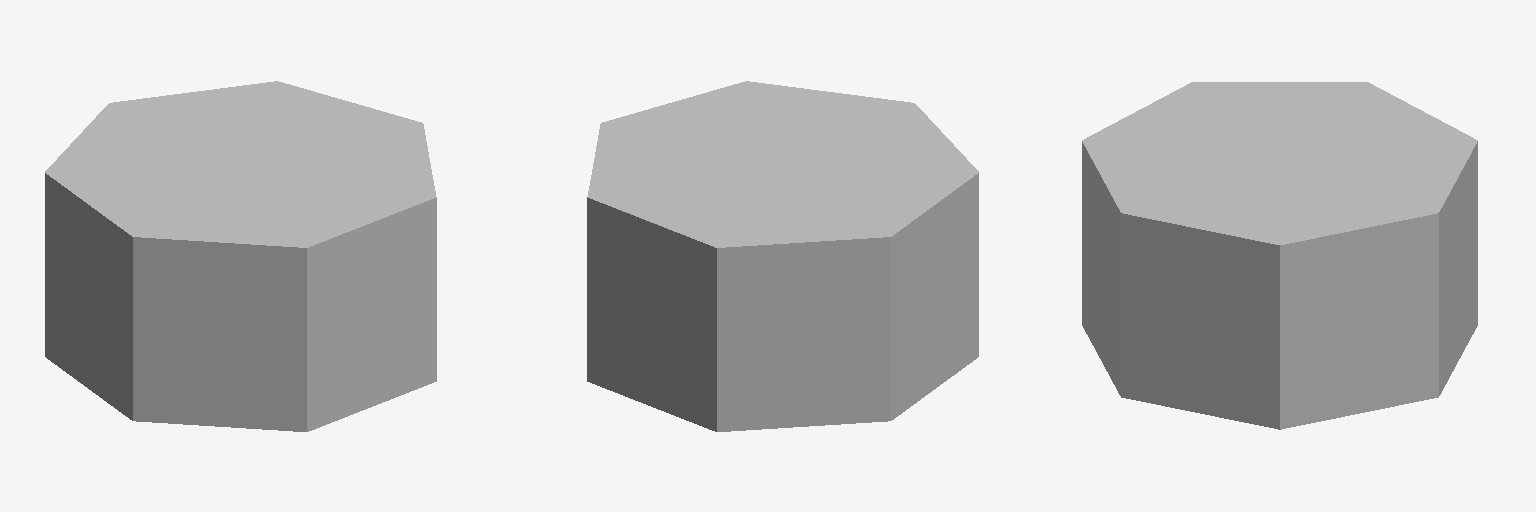
The model's file is medium_heptagon.obj.
3 views of the same model, side by side, from view 1: azimuth 30°, elevation 25°; view 2: azimuth 150°, elevation 25°; view 3: azimuth 270°, elevation 25° (orthographic).
Visible parts, largest first — view 1: Mesh1 Model; view 2: Mesh1 Model; view 3: Mesh1 Model.
Boxes of the visible parts, box(x1,y1,x2,y2) form: Mesh1 Model: box(45, 81, 436, 431); Mesh1 Model: box(587, 81, 978, 431); Mesh1 Model: box(1082, 82, 1477, 429).
Size of the model in its own units: 17.11 by 9 by 17.55.